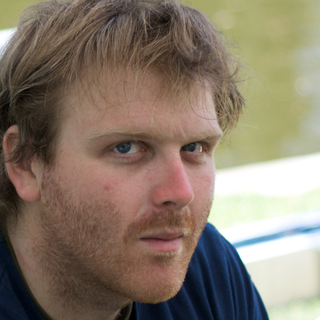eye: (99, 136, 149, 163), (174, 135, 216, 162)
